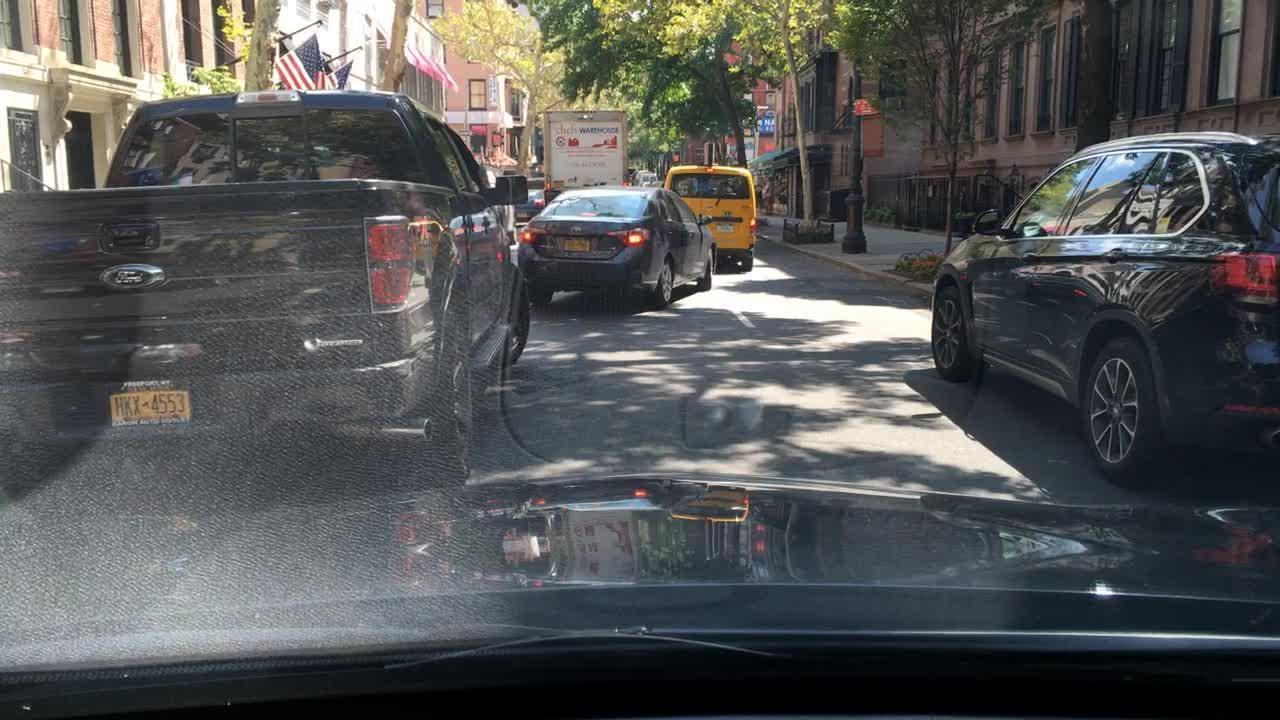ford: (94, 262, 167, 293)
